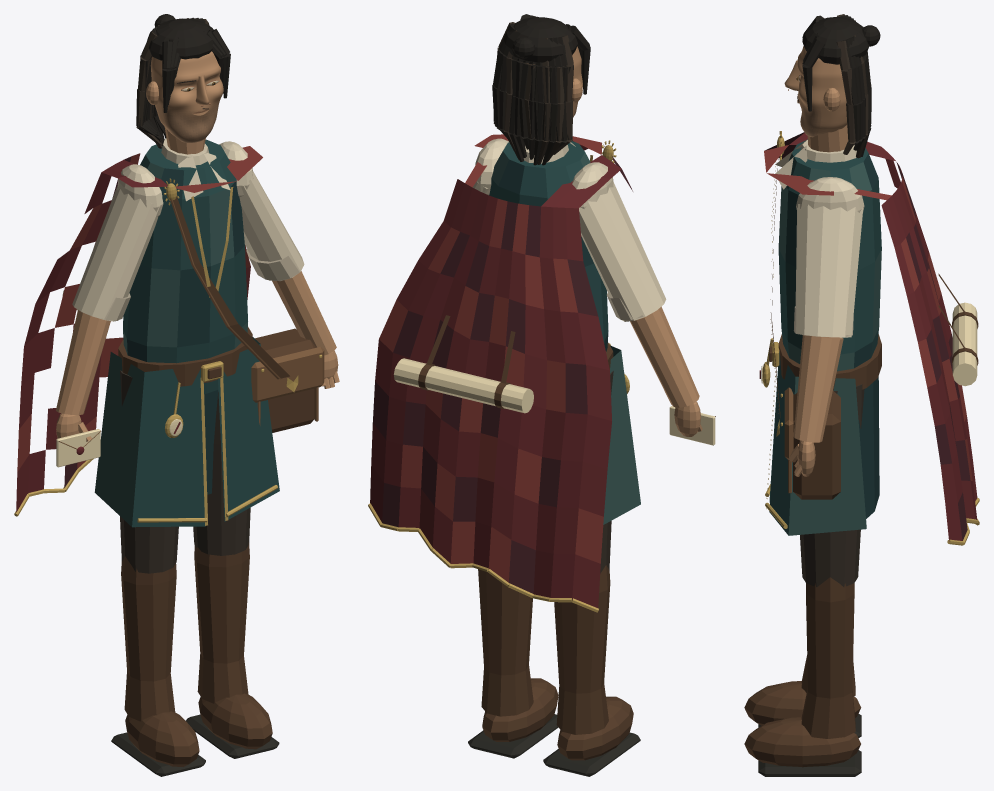
File: human-courier.glb
The picture shows the model from 3 angles, left to right: view 1: azimuth 30°, elevation 25°; view 2: azimuth 150°, elevation 25°; view 3: azimuth 270°, elevation 25°; orthographic projection. The views are drawn at different scales.
Visible parts, largest first — view 1: Waistcoat, Split_coat_R, Cloak_folds, Boot_shaft_R, Boot_shaft_L, Split_coat_L, Linen_sleeve_R, Face, Forearm_R, Linen_sleeve_L, Trouser_thigh_L, Boot_toe_L (+15 smaller); view 2: Cloak_folds, Boot_shaft_R, Boot_shaft_L, Linen_sleeve_R, Waistcoat, Split_coat_R, Map_roll, Forearm_R, Boot_toe_R, Boot_toe_L, Hair_crown, Boot_sole_R (+5 smaller); view 3: Cloak_folds, Waistcoat, Linen_sleeve_L, Boot_shaft_L, Split_coat_L, Boot_toe_L, Forearm_L, Trouser_thigh_L, Messenger_satchel, Face, Back_coat, Boot_toe_R (+9 smaller).
Boxes of the visible parts, <box> form: Waistcoat: <box>123,139,247,393</box>; Split_coat_R: <box>94,352,205,527</box>; Cloak_folds: <box>16,146,262,512</box>; Boot_shaft_R: <box>121,556,176,721</box>; Boot_shaft_L: <box>194,542,249,703</box>; Split_coat_L: <box>218,337,279,521</box>; Linen_sleeve_R: <box>72,185,160,321</box>; Face: <box>150,51,223,142</box>; Forearm_R: <box>56,310,110,415</box>; Linen_sleeve_L: <box>239,171,304,281</box>; Trouser_thigh_L: <box>193,392,250,555</box>; Boot_toe_L: <box>198,693,272,749</box>; Cloak_folds: <box>370,134,632,607</box>; Boot_shaft_R: <box>554,565,610,734</box>; Boot_shaft_L: <box>478,569,533,716</box>; Linen_sleeve_R: <box>579,181,666,321</box>; Waistcoat: <box>489,141,608,351</box>; Split_coat_R: <box>603,345,640,524</box>; Map_roll: <box>393,358,533,413</box>; Forearm_R: <box>630,306,699,407</box>; Boot_toe_R: <box>557,696,633,760</box>; Boot_toe_L: <box>482,678,558,741</box>; Hair_crown: <box>503,17,577,62</box>; Boot_sole_R: <box>543,732,640,776</box>; Cloak_folds: <box>764,132,977,541</box>; Waistcoat: <box>778,139,881,371</box>; Linen_sleeve_L: <box>795,204,863,337</box>; Boot_shaft_L: <box>801,577,855,738</box>; Split_coat_L: <box>769,351,866,535</box>; Boot_toe_L: <box>744,717,860,767</box>; Forearm_L: <box>793,335,843,442</box>; Trouser_thigh_L: <box>800,384,864,587</box>; Messenger_satchel: <box>793,390,840,499</box>; Face: <box>797,46,847,137</box>; Back_coat: <box>858,376,879,518</box>; Boot_toe_R: <box>744,681,861,725</box>.
Size of the model in its own units: 0.7395 by 1.75 by 0.5149.
